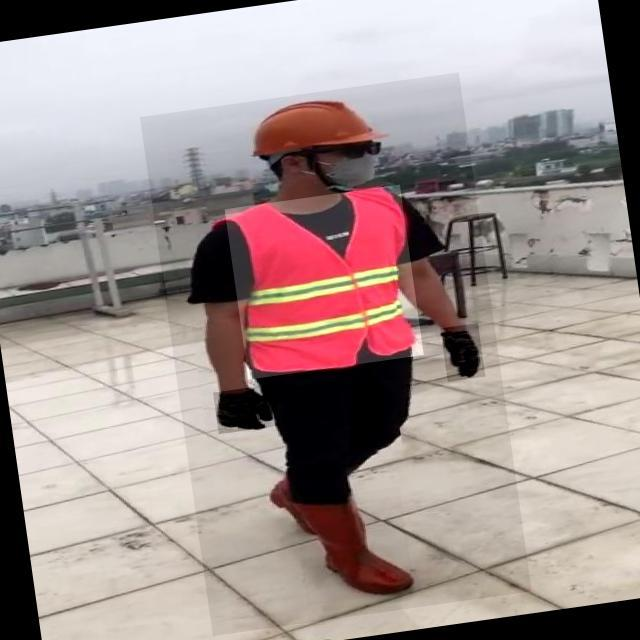Gloves: (214, 384, 281, 434), (441, 323, 486, 382)
Helmet: (240, 86, 387, 165)
Human: (140, 73, 532, 636)
Safety Boot: (294, 487, 415, 606)
Safety Vest: (225, 185, 425, 380)
